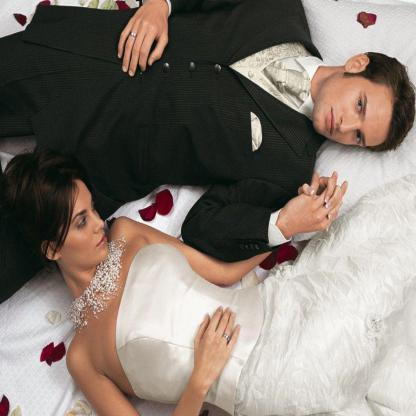face: (314, 87, 395, 148), (61, 182, 112, 263)
